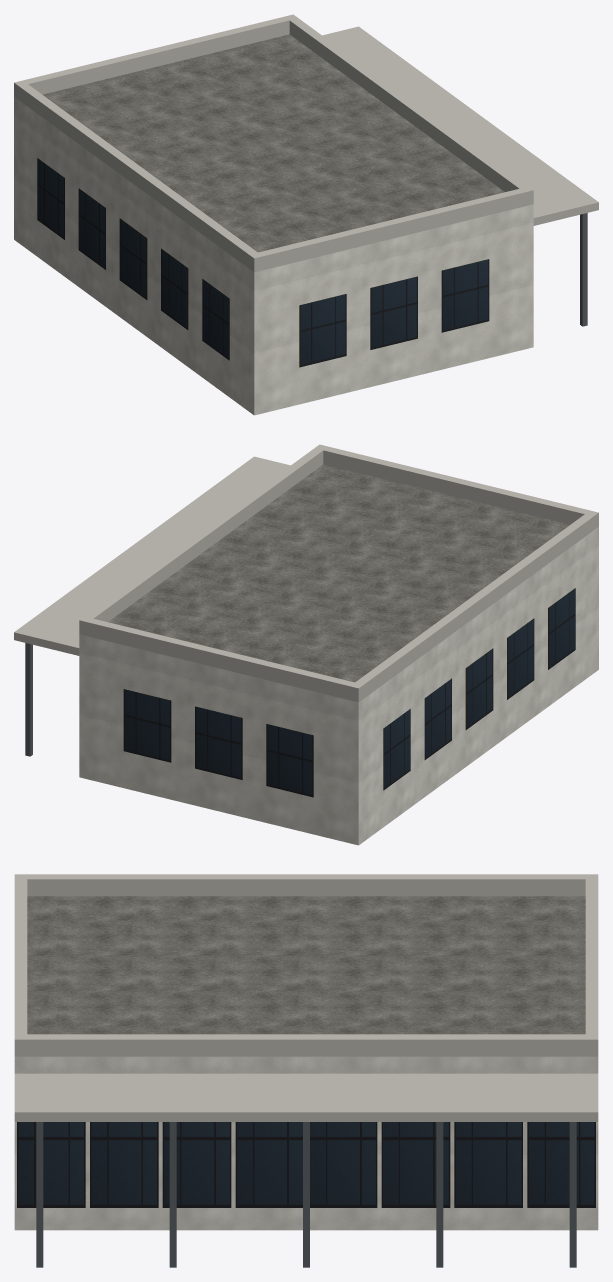
Rendered from let_budova_3.glb.
3 renders of one model, top to bottom at view 1: azimuth 30°, elevation 25°; view 2: azimuth 150°, elevation 25°; view 3: azimuth 270°, elevation 25°, orthographic. The views are drawn at different scales.
Parts seen in each view (by area): view 1: dum; view 2: dum; view 3: dum.
Part boxes in pixels (<box>): dum: <box>14,14,598,415</box>; dum: <box>14,444,598,845</box>; dum: <box>14,874,598,1267</box>.
Size of the model in its own units: 11.62 by 5.05 by 14.04.
2 materials, 2 textured.
